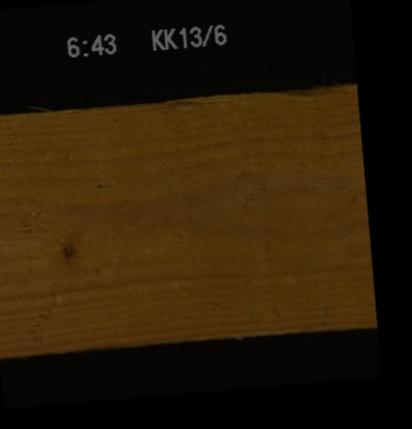dry_knot: (60, 238, 76, 260)
split: (167, 90, 356, 117)
